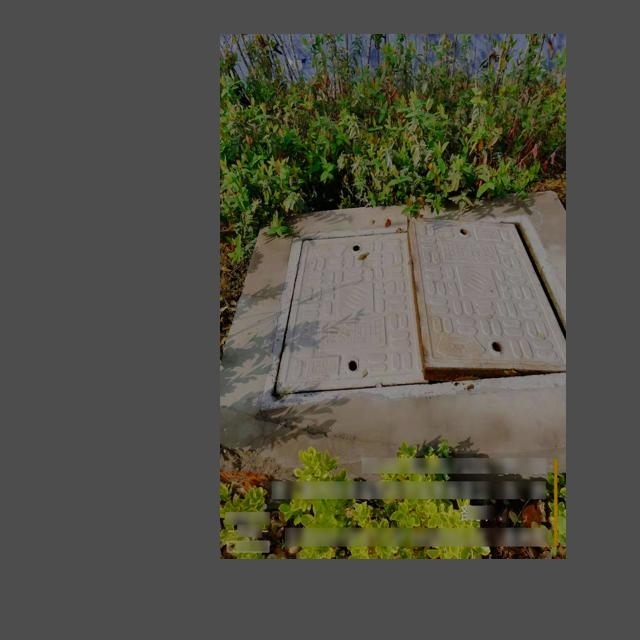uncovered: (260, 214, 566, 407)
